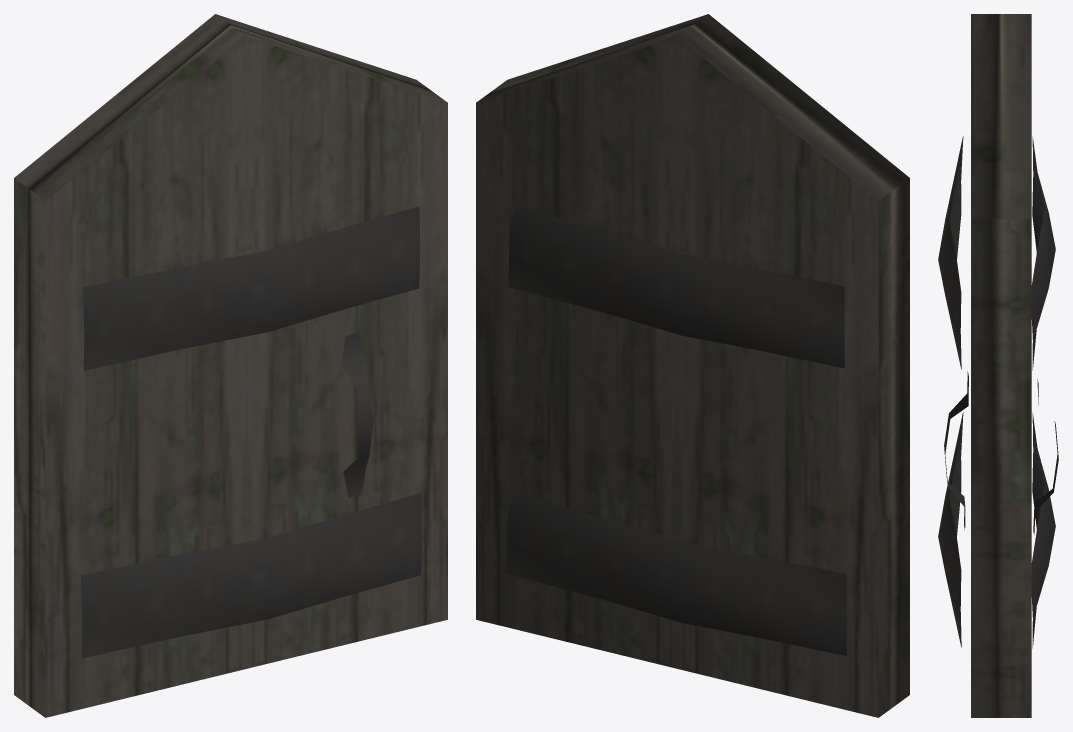
Rendered from towerblock_door.glb.
3 renders of one model, left to right at view 1: azimuth 30°, elevation 25°; view 2: azimuth 150°, elevation 25°; view 3: azimuth 270°, elevation 25°, orthographic. The views are drawn at different scales.
Parts seen in each view (by area): view 1: towerblock_door; view 2: towerblock_door; view 3: towerblock_door.
Part boxes in pixels (x1,y1,x2,y2): towerblock_door: [14, 14, 447, 717]; towerblock_door: [476, 14, 909, 717]; towerblock_door: [938, 14, 1058, 717].
Size of the model in its own units: 2.2 by 3.3 by 0.5928.
Materials: 2 (2 with a texture image).
